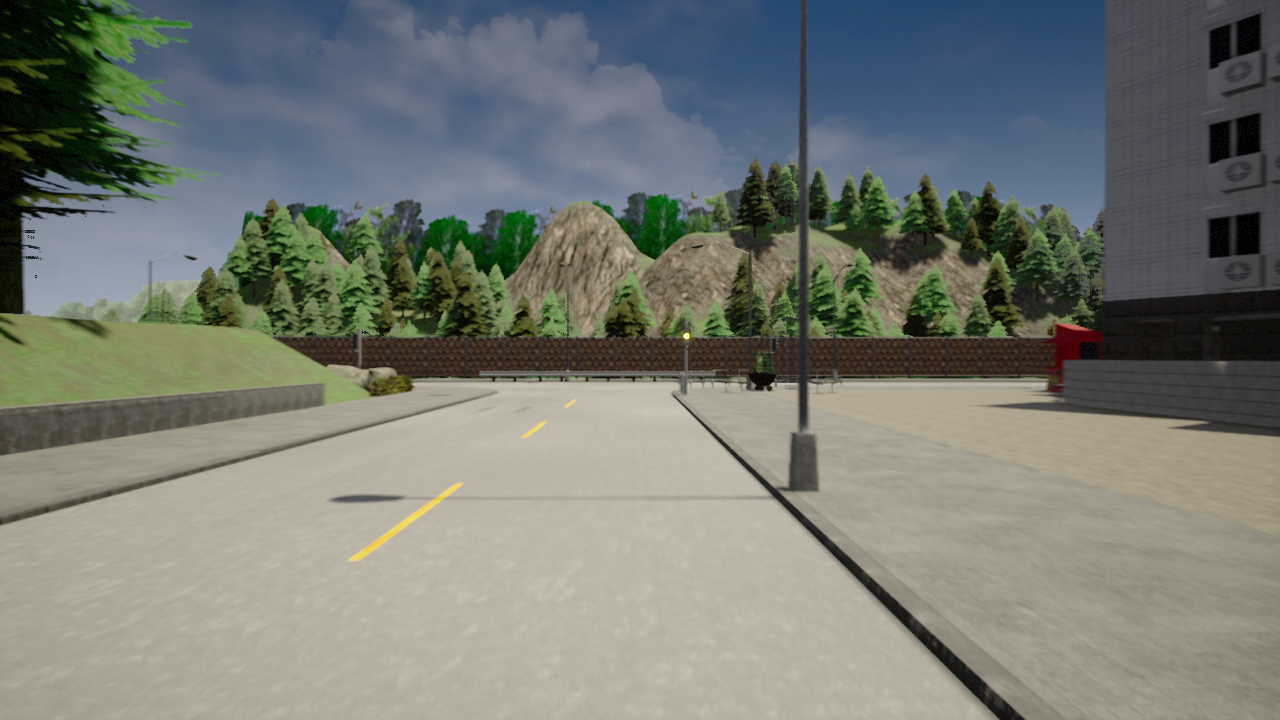yellow: (682, 326, 692, 346)
